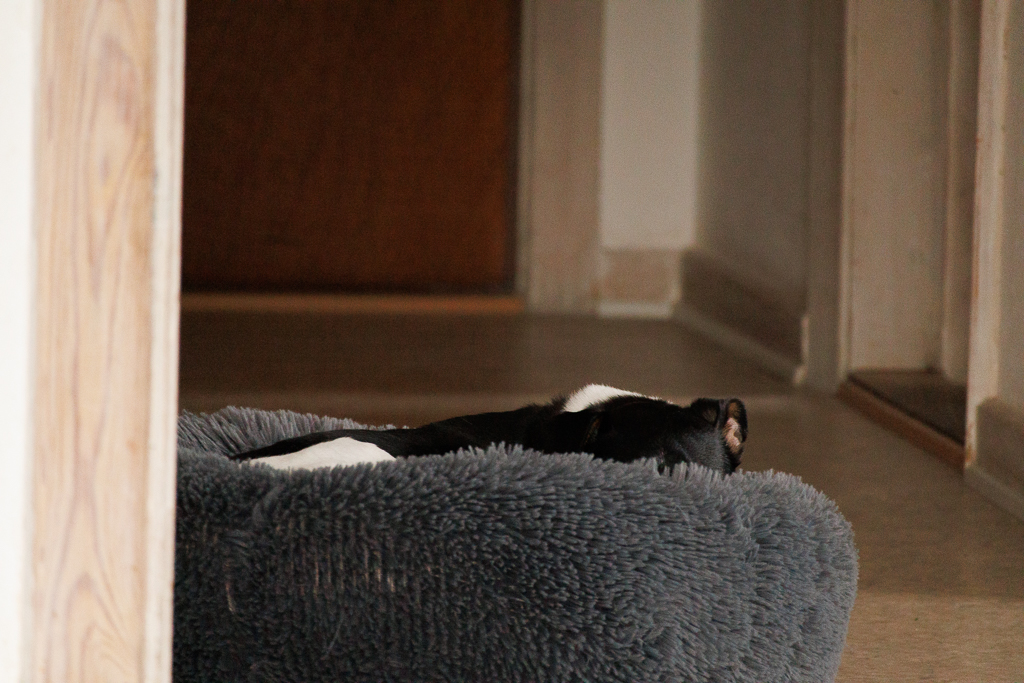Dog: (221, 369, 758, 497)
